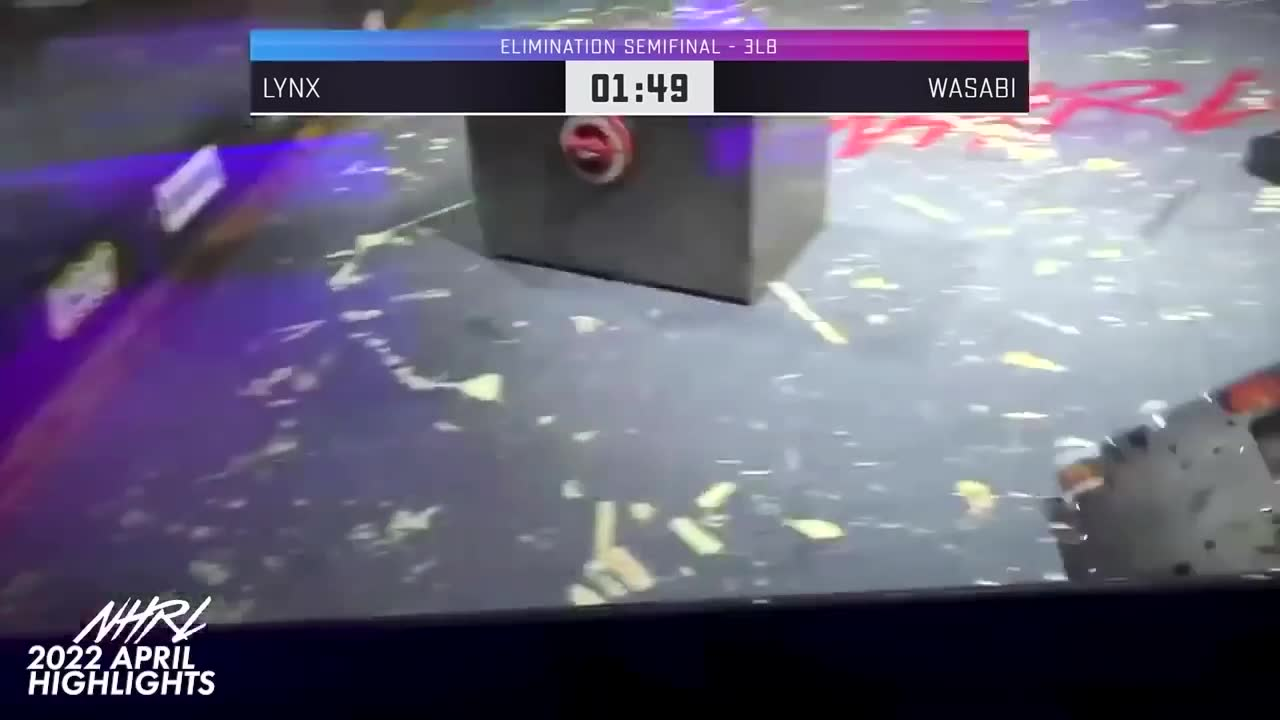combatbot: (1059, 358, 1280, 601), (1243, 91, 1280, 188)
housebot: (463, 116, 829, 305)
